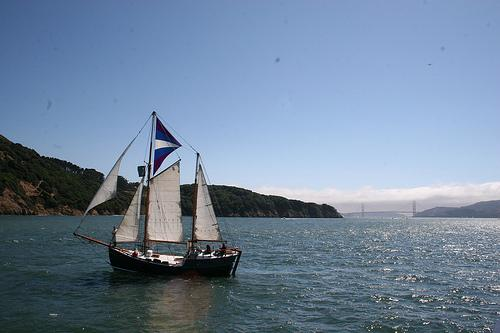Ship: (73, 112, 243, 283)
